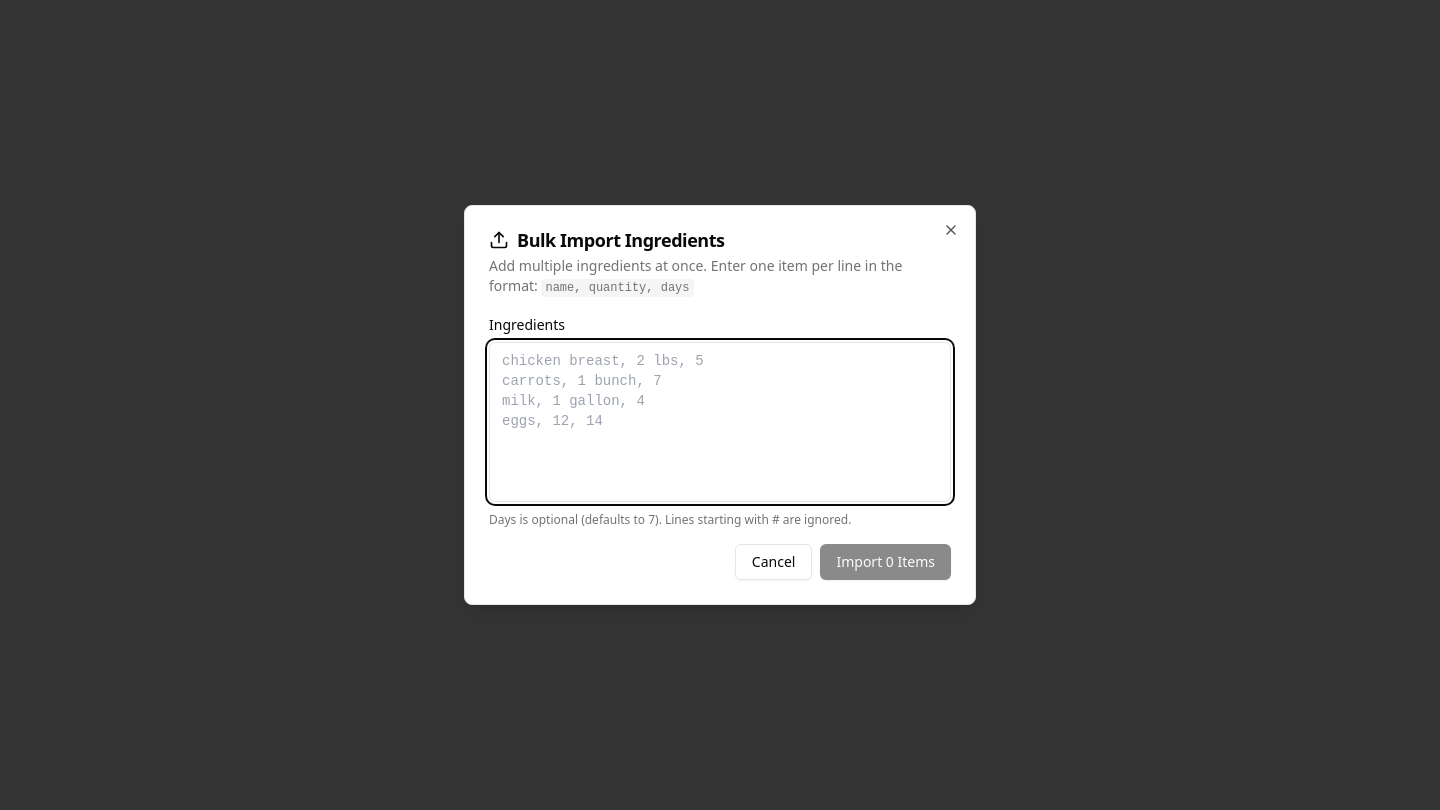
Test: BulkFridgeImportDialog › parsing input › should parse valid input with all three fields
Type "chicken breast, 2 lbs, 5" into the text box labelled "Ingredients" at (720, 422), box [489,342,951,502]
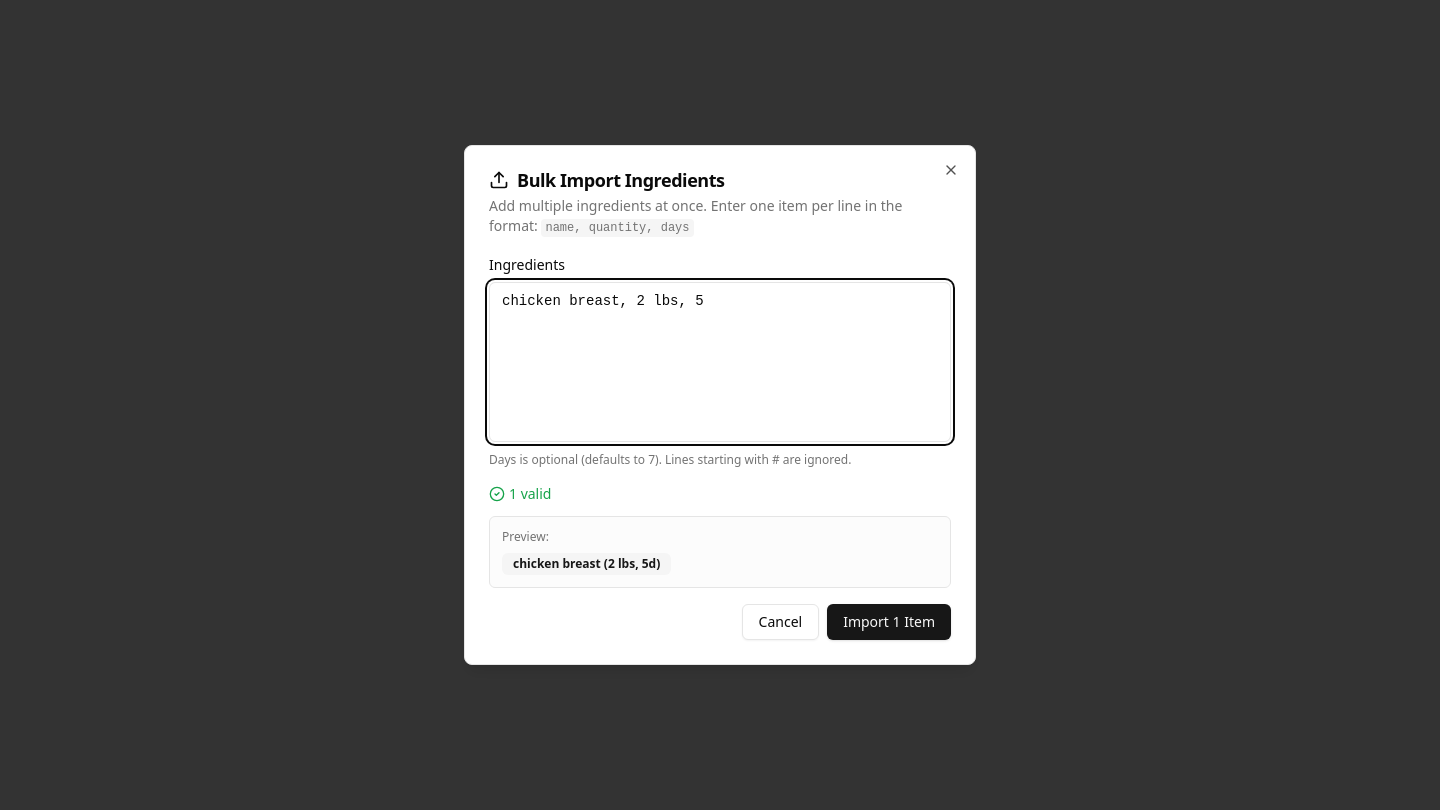
Result: the text "1 valid" is shown at [509,484,552,504]
